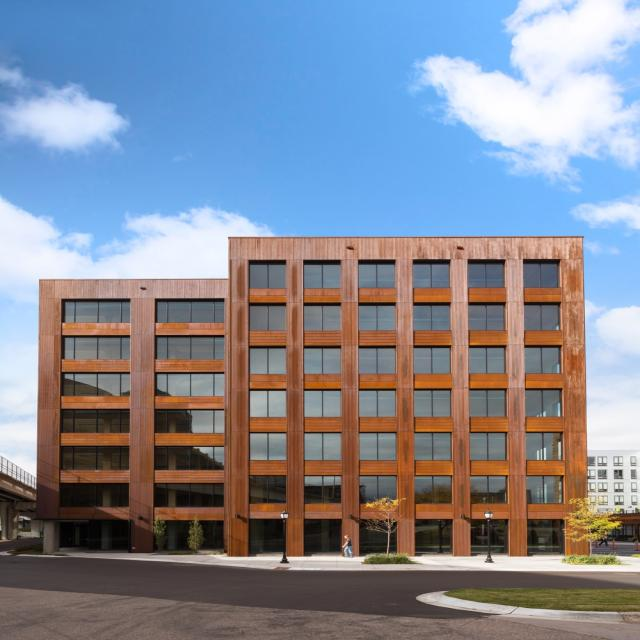window: (150, 294, 231, 326), (519, 511, 566, 560), (55, 296, 133, 325), (147, 447, 224, 474), (59, 334, 132, 362), (150, 370, 224, 397), (64, 410, 136, 437), (53, 374, 129, 398), (408, 471, 458, 506), (58, 450, 130, 474), (152, 485, 225, 508), (464, 387, 511, 422), (410, 349, 458, 382), (522, 385, 567, 420), (242, 474, 288, 508), (251, 342, 290, 382), (407, 386, 454, 418), (156, 412, 227, 433), (297, 260, 342, 292), (298, 303, 339, 338), (60, 486, 135, 505), (466, 343, 508, 376), (158, 339, 227, 359), (357, 301, 398, 334), (304, 475, 345, 508), (302, 390, 348, 419), (524, 474, 570, 502), (354, 346, 395, 377), (466, 260, 508, 290), (414, 303, 456, 333), (300, 431, 342, 461), (520, 262, 562, 291), (464, 307, 509, 334), (468, 479, 512, 506), (255, 261, 293, 292), (412, 259, 452, 288), (361, 388, 396, 421), (357, 433, 398, 461), (522, 306, 562, 334), (361, 478, 398, 507), (355, 261, 393, 289), (252, 389, 290, 417), (524, 347, 563, 374), (252, 430, 286, 460), (469, 434, 508, 460), (256, 304, 289, 333), (522, 435, 560, 460), (302, 348, 337, 374), (412, 435, 451, 458)
